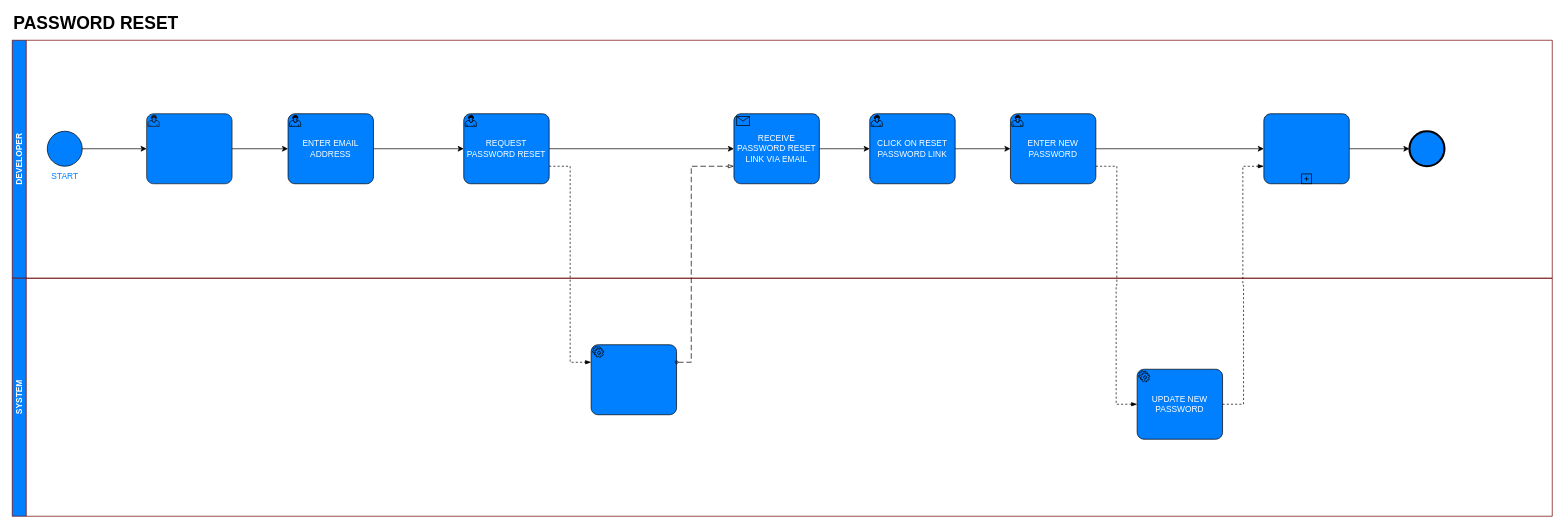
Image size: 1565x529. Some labels were removed from this diagram. Each missing label, with the centre of its shape:
"CLICK FORGOT PASSWORD" belongs at point 189,148.
"END" belongs at point 1426,148.
"LOGIN VIA USERNAME AND PASSWORD" belongs at point 1306,148.
"SEND RESET PASSWORD" belongs at point 633,379.
